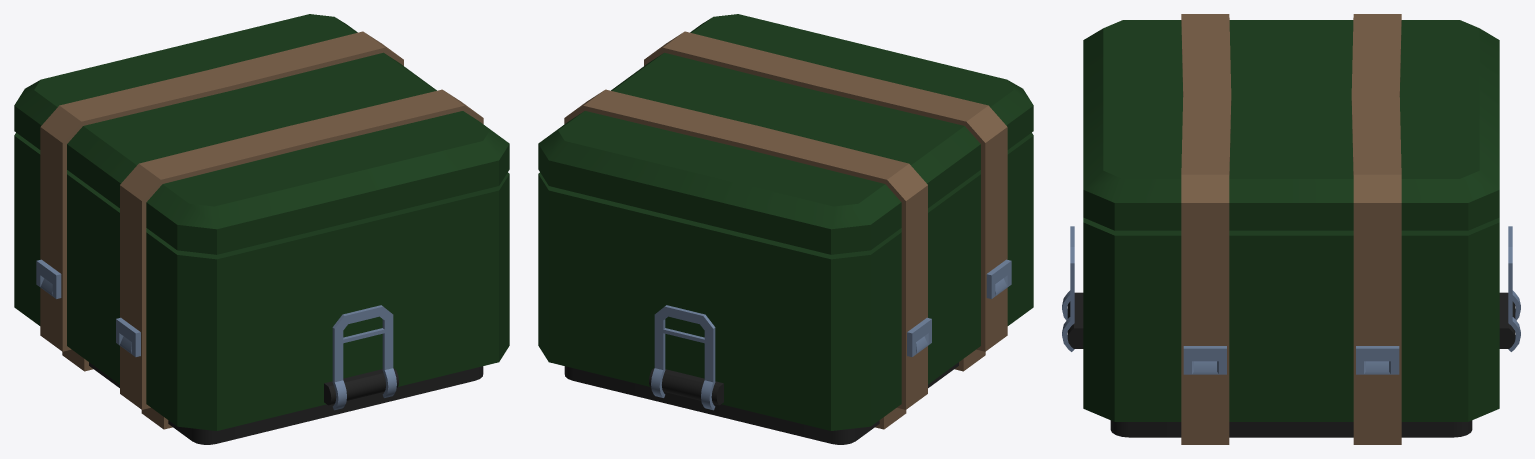
File: Supply_Crate.1.fbx
3 renders of one model, left to right at view 1: azimuth 30°, elevation 25°; view 2: azimuth 150°, elevation 25°; view 3: azimuth 270°, elevation 25°, orthographic. The views are drawn at different scales.
Visible parts, largest first — view 1: Cube, Cube.001, Plane; view 2: Cube, Cube.001, Plane; view 3: Cube, Cube.001, Plane.
Part boxes in pixels (<box>): Cube: <box>14,14,509,444</box>; Cube.001: <box>36,31,483,429</box>; Plane: <box>324,305,398,410</box>; Cube: <box>538,14,1033,444</box>; Cube.001: <box>564,31,1011,429</box>; Plane: <box>649,305,723,410</box>; Cube: <box>1083,20,1499,437</box>; Cube.001: <box>1181,14,1401,444</box>; Plane: <box>1062,226,1520,351</box>.
Size of the model in its own units: 212 by 144 by 220.
